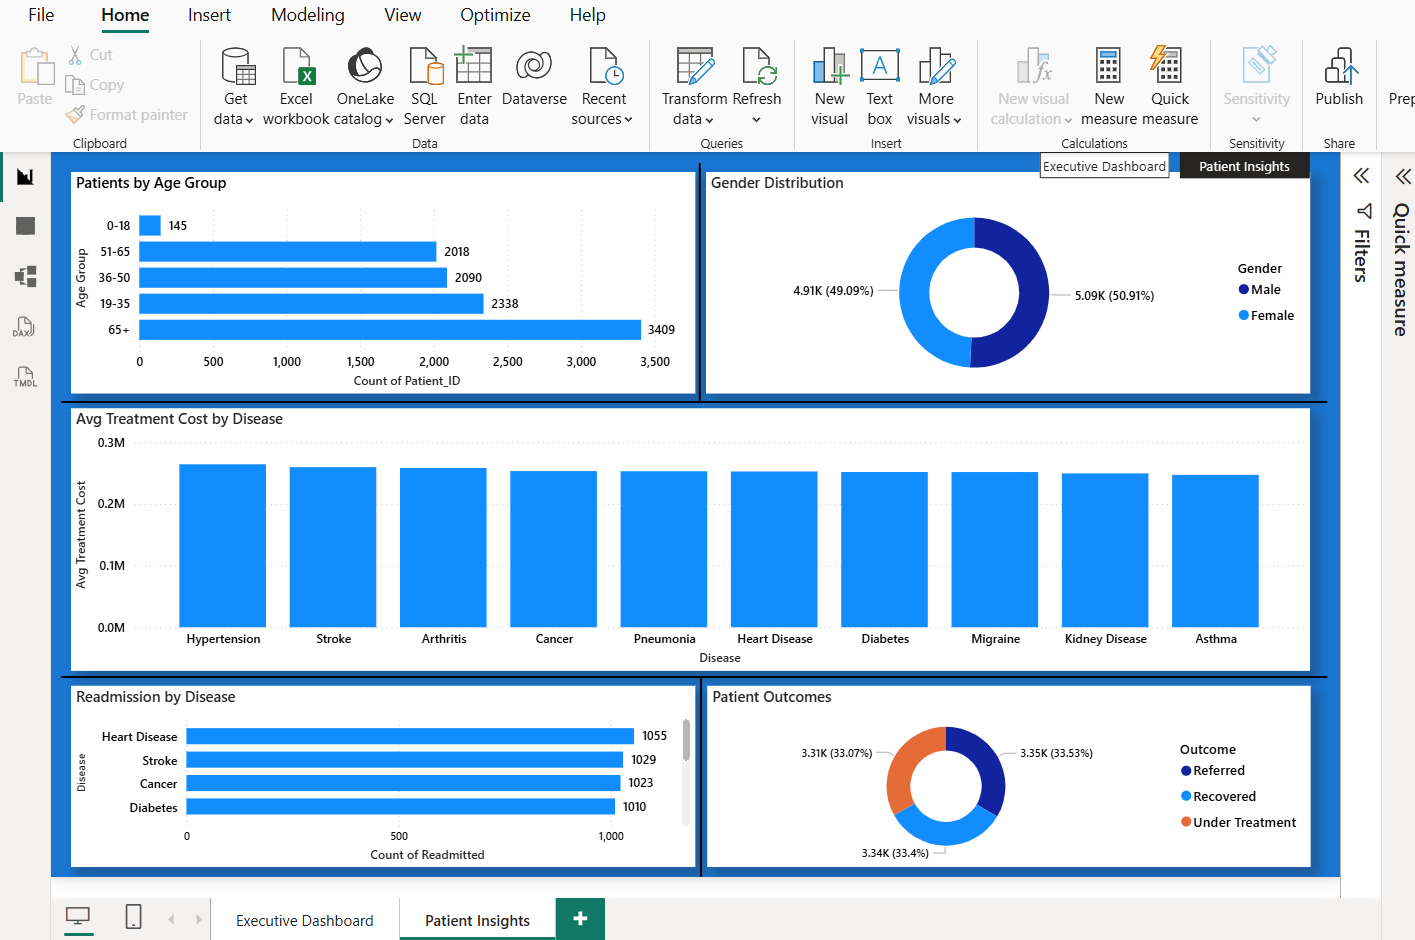

The page's visual inventory and layout, read from the dashboard file:
{"tool":"powerbi","page":{"name":"Patient Insights","canvas":[1280,720],"ordinal":1},"visuals":[{"type":"clusteredBarChart","title":"Patients by Age Group","fields":{"Y":["CountNonNull(Healthcare_Analytics_Dataset_10000.Patient_ID)"],"Category":["Healthcare_Analytics_Dataset_10000.Age Group"]},"box":[20,20,620,220],"z":0},{"type":"donutChart","title":"Gender Distribution","fields":{"Category":["Healthcare_Analytics_Dataset_10000.Gender"],"Y":["CountNonNull(Healthcare_Analytics_Dataset_10000.Patient_ID)"]},"box":[650,20,600,220],"z":1000},{"type":"clusteredColumnChart","title":"Avg Treatment Cost by Disease","fields":{"Category":["Healthcare_Analytics_Dataset_10000.Disease"],"Y":["Healthcare_Analytics_Dataset_10000.Avg Treatment Cost"]},"box":[19.9,254.5,1230.1,260.7],"z":2000},{"type":"clusteredBarChart","title":"Readmission by Disease","fields":{"Category":["Healthcare_Analytics_Dataset_10000.Disease"],"Y":["CountNonNull(Healthcare_Analytics_Dataset_10000.Readmitted)"]},"box":[20,530,620,180],"z":3000},{"type":"donutChart","title":"Patient Outcomes","fields":{"Category":["Healthcare_Analytics_Dataset_10000.Outcome"],"Y":["CountNonNull(Healthcare_Analytics_Dataset_10000.Patient_ID)"]},"box":[651.7,530,599.5,180],"z":4000},{"type":"shape","box":[9.9,242.1,1257.4,12.4],"z":4001},{"type":"shape","box":[9.9,515.1,1257.4,12.4],"z":4002},{"type":"shape","box":[639.3,521.3,12.4,198.6],"z":4003},{"type":"shape","box":[638,11.2,12.4,237.1],"z":4004},{"type":"pageNavigator","box":[981.9,0,269.4,26.1],"z":4005}]}

Visuals, with their boxes on the page's 1280x720 design canvas (x1, y1, x2, y2). These are canvas units, not pixel positions in the 1415x940 screenshot, which may show the page scaled, cropped or inside an application window:
"Patients by Age Group" clusteredBarChart: 20:20:640:240
"Gender Distribution" donutChart: 650:20:1250:240
"Avg Treatment Cost by Disease" clusteredColumnChart: 20:254:1250:515
"Readmission by Disease" clusteredBarChart: 20:530:640:710
"Patient Outcomes" donutChart: 652:530:1251:710
shape: 10:242:1267:254
shape: 10:515:1267:528
shape: 639:521:652:720
shape: 638:11:650:248
pageNavigator: 982:0:1251:26
